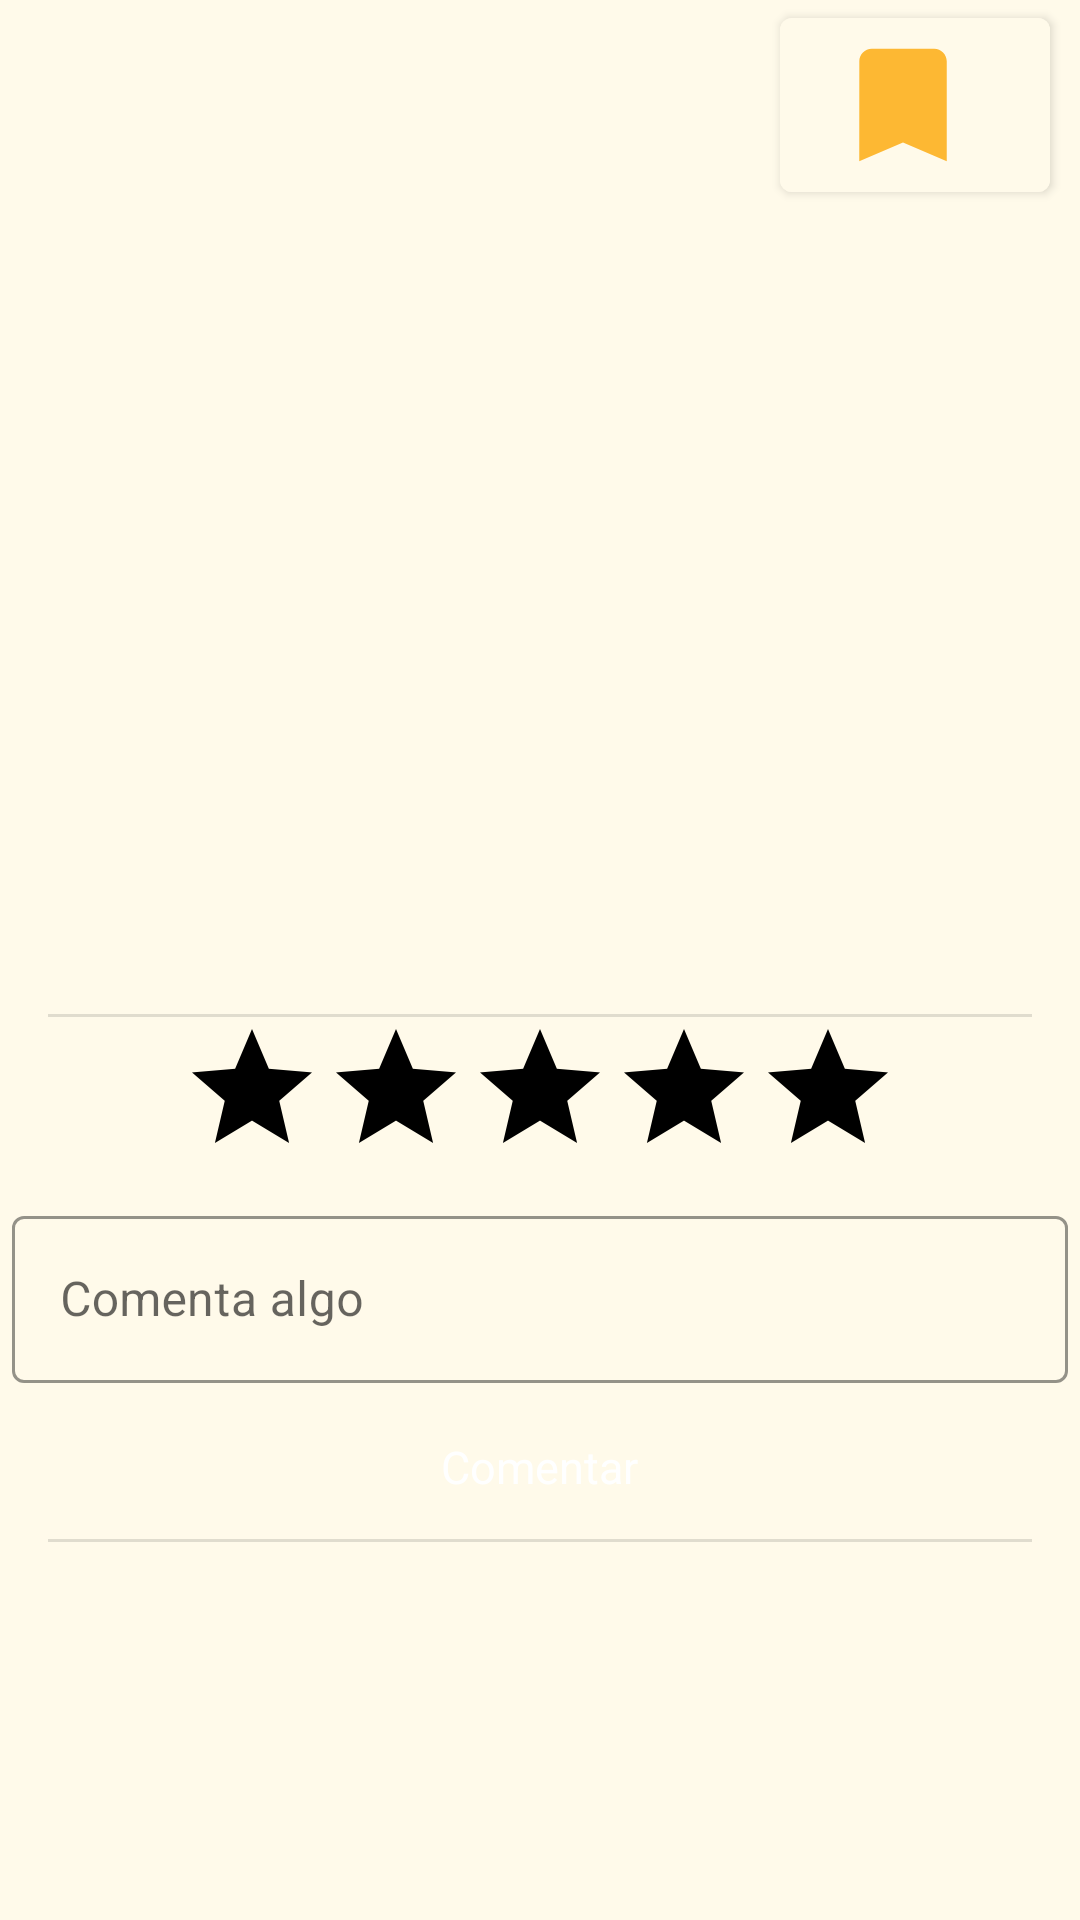

Point at icon controls on the screen. Image size 1080px×1920px, points as (x=x, y=y).
bookmark: (x=903, y=104)
